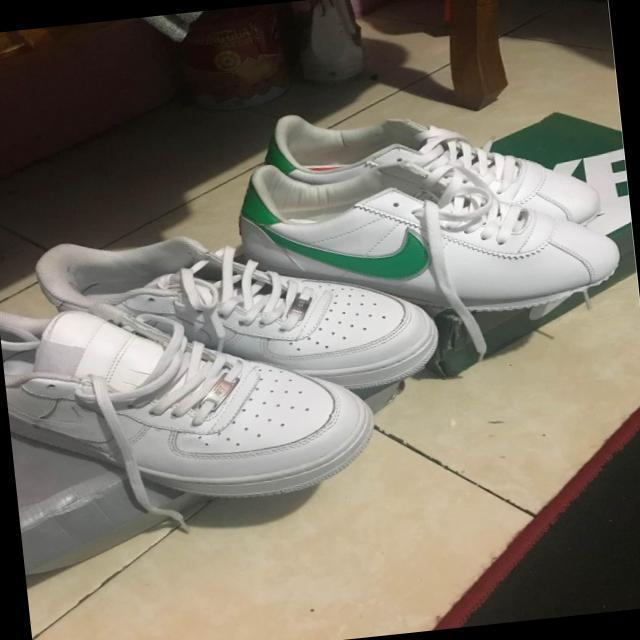nike fake air force: (12, 195, 454, 423), (0, 271, 383, 523)
